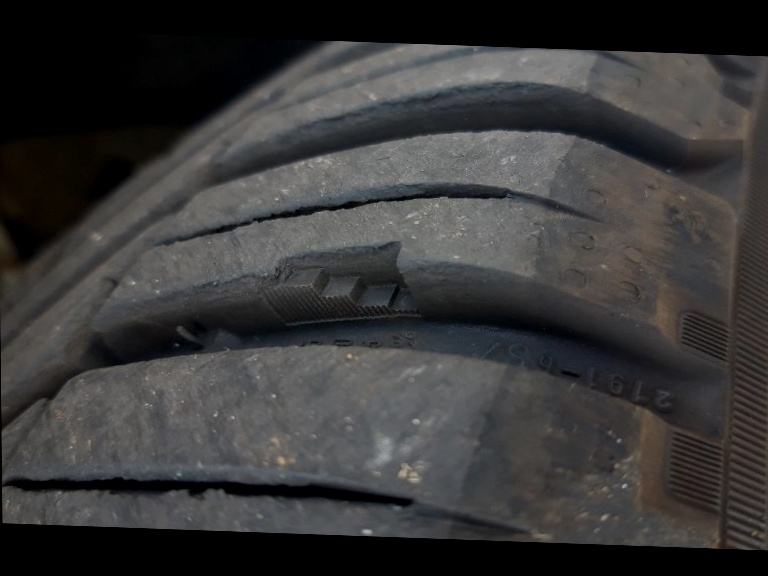temoin:90: (246, 230, 443, 339)
